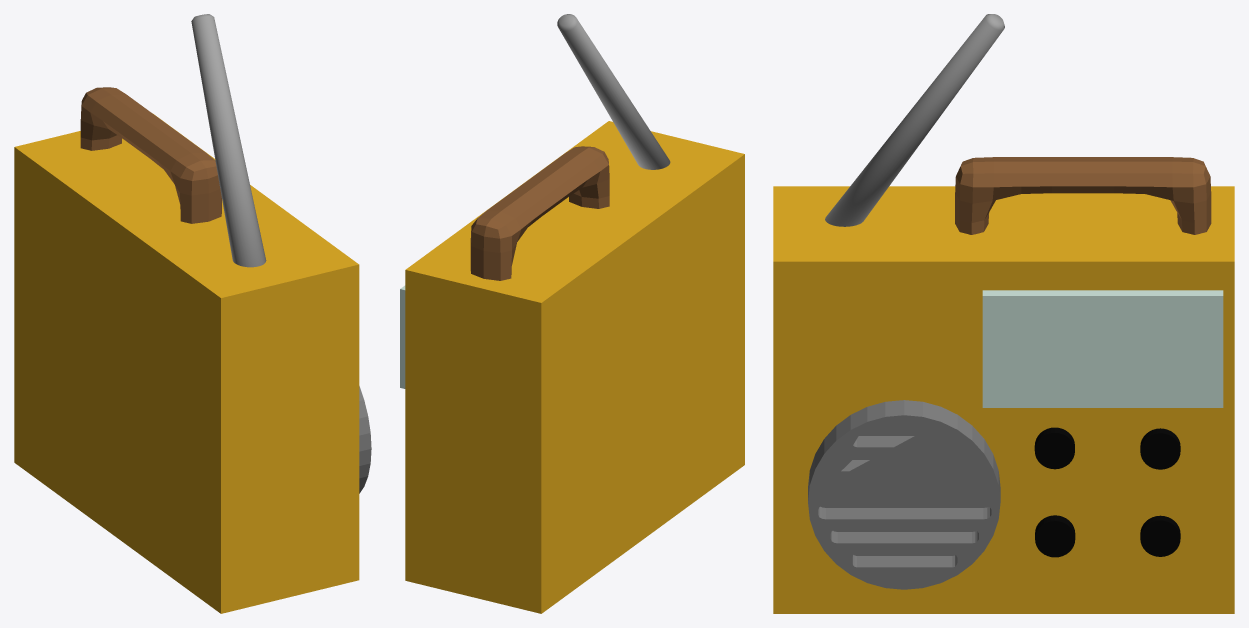
File: radio.fbx
3 renders of one model, left to right at view 1: azimuth 30°, elevation 25°; view 2: azimuth 150°, elevation 25°; view 3: azimuth 270°, elevation 25°, orthographic. The views are drawn at different scales.
Visible parts, largest first — view 1: Cube; view 2: Cube; view 3: Cube.
Boxes of the visible parts, x1=… form: Cube: x1=14, y1=14, x2=371, y2=613; Cube: x1=400, y1=14, x2=744, y2=613; Cube: x1=773, y1=14, x2=1234, y2=613.
Bounding box in the file's own units: 157 × 459 × 339.
